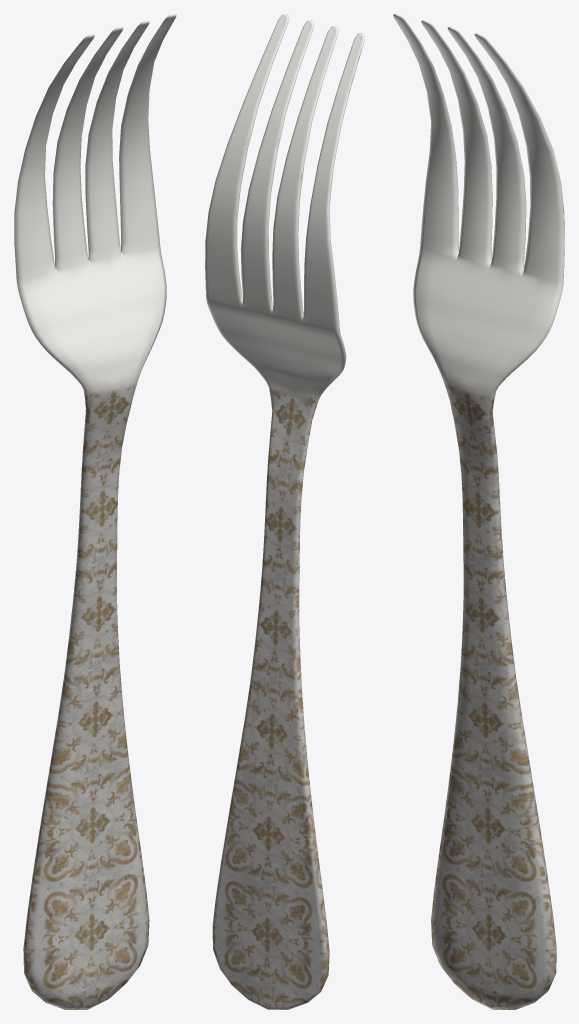
Rendered from royal_fork.glb.
3 renders of one model, left to right at view 1: azimuth 30°, elevation 25°; view 2: azimuth 150°, elevation 25°; view 3: azimuth 330°, elevation 25°, orthographic. The views are drawn at different scales.
Visible parts, largest first — view 1: fork_new; view 2: fork_new; view 3: fork_new.
Boxes of the visible parts, x1,y1,x2,y2 form: fork_new: [14, 14, 176, 1009]; fork_new: [205, 14, 364, 1009]; fork_new: [393, 14, 564, 1009].
Size of the model in its own units: 2.89 by 19.72 by 1.95.
Materials: 1 (1 with a texture image).
